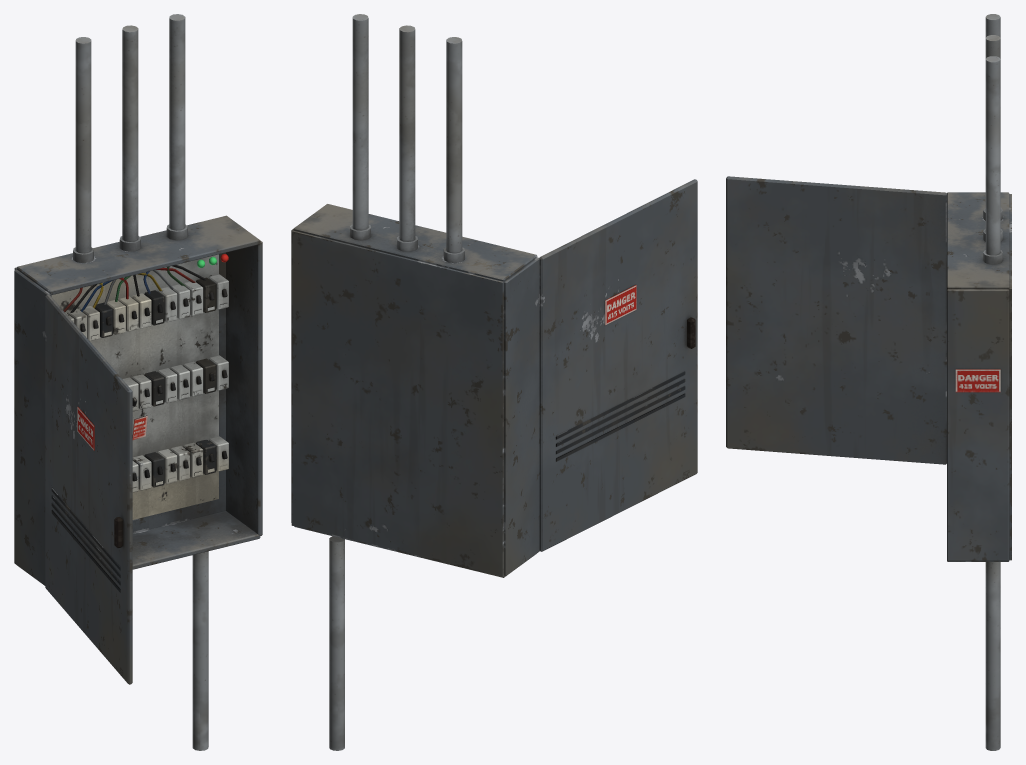
Rendered from BreakerPanel.fbx.
The picture shows the model from 3 angles, left to right: view 1: azimuth 30°, elevation 25°; view 2: azimuth 150°, elevation 25°; view 3: azimuth 270°, elevation 25°; orthographic projection. The views are drawn at different scales.
Visible parts, largest first — view 1: Frame, Door; view 2: Frame, Door; view 3: Door, Frame.
Part boxes in pixels (x1,y1,x2,y2): Frame: (14,14,262,750); Door: (45,294,132,684); Frame: (291,14,539,750); Door: (539,179,697,551); Door: (726,176,946,464); Frame: (947,14,1011,750).
Bounding box in the file's own units: 3.33 × 9 × 3.44.
Materials: 1 (1 with a texture image).
